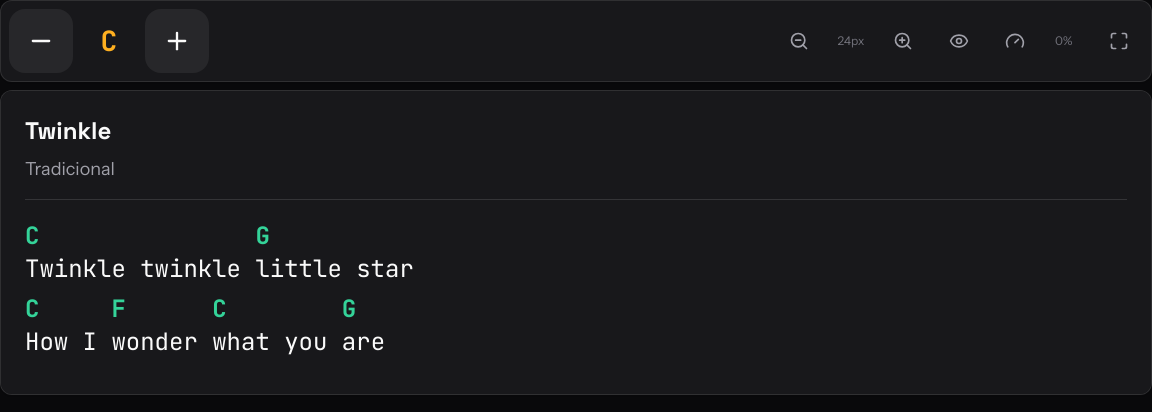
Scenario: CifraViewer › stepper transpõe +1 semitom e mostra o tom original (2.3)
The image size is (1152, 412).
Click the button named "Subir meio tom".
click(177, 41)  # box [145,9,209,73]
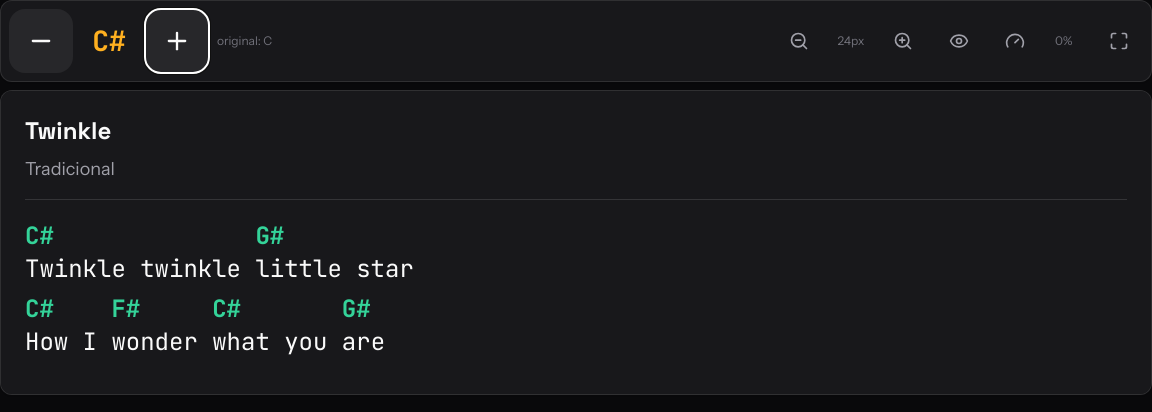
Now the text "original: C" is shown, box [217,33,272,49]
